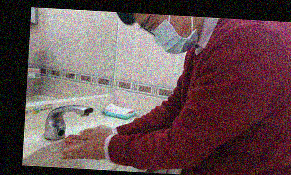with_mask: (136, 15, 201, 56)
